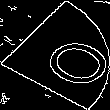O_NW: (9, 22, 101, 88)
